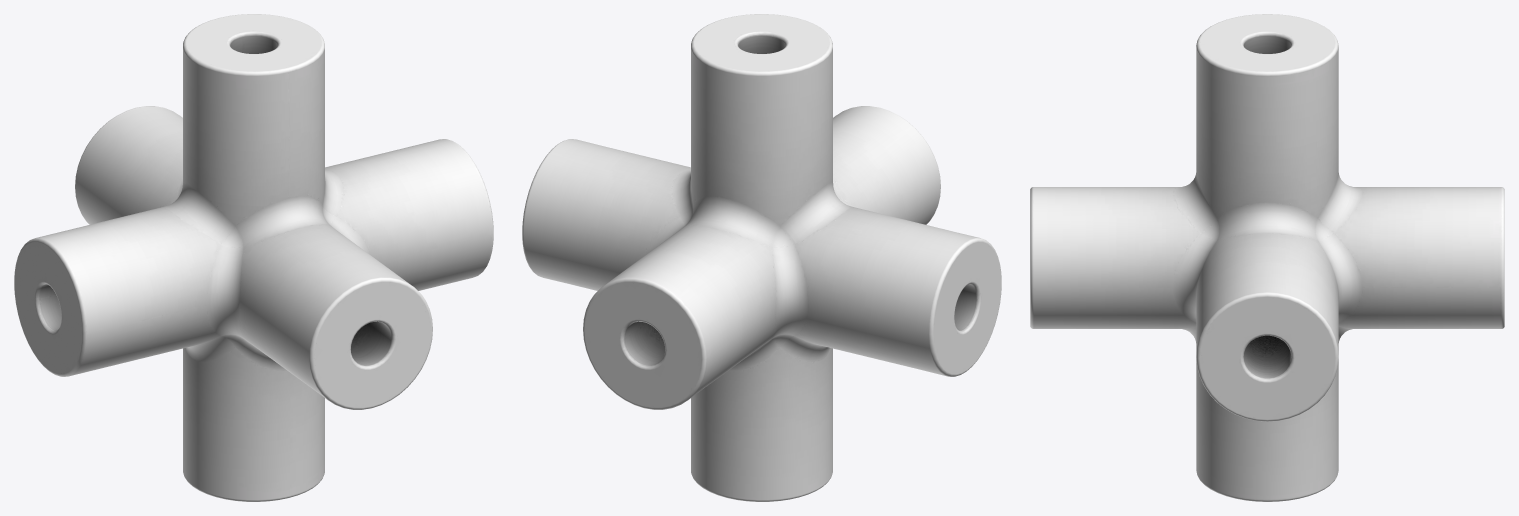
File: connector.glb
3 renders of one model, left to right at view 1: azimuth 30°, elevation 25°; view 2: azimuth 150°, elevation 25°; view 3: azimuth 270°, elevation 25°, orthographic.
Parts seen in each view (by area): view 1: connector; view 2: connector; view 3: connector.
Boxes of the visible parts, x1,y1,x2,y2 form: connector: [14, 14, 493, 501]; connector: [522, 14, 1001, 501]; connector: [1030, 14, 1504, 501].
Size of the model in its own units: 2.54 by 2.54 by 2.54.
1 material, 1 textured.
